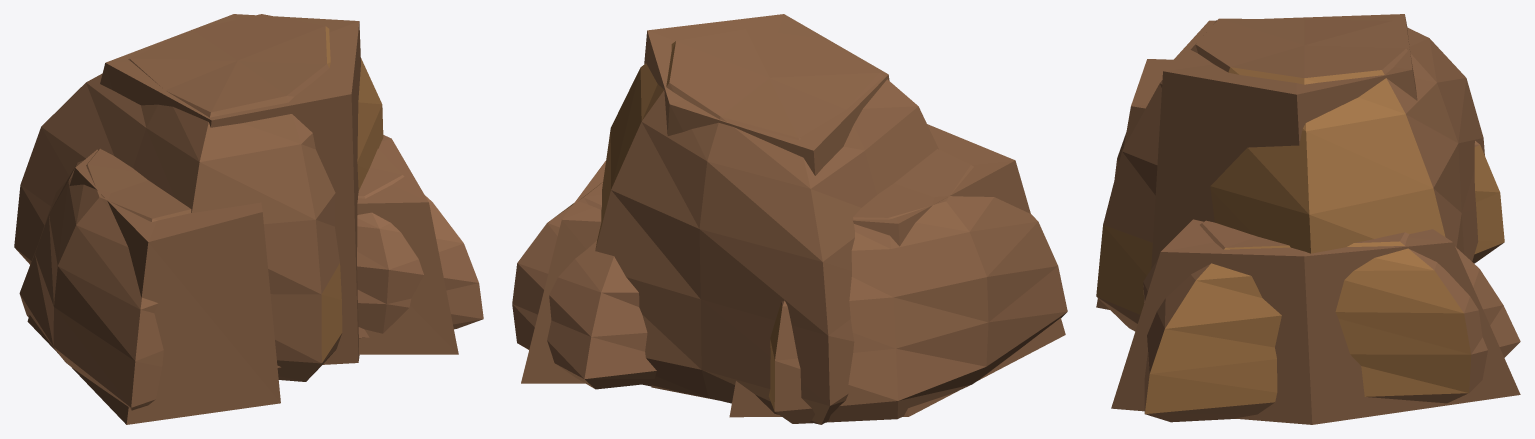
Rendered from rock_field_a.glb.
The picture shows the model from 3 angles, left to right: view 1: azimuth 30°, elevation 25°; view 2: azimuth 150°, elevation 25°; view 3: azimuth 270°, elevation 25°; orthographic projection. The views are drawn at different scales.
Parts seen in each view (by area): view 1: rock_field_a_LOD0_stone, rock_field_a_LOD1_stone; view 2: rock_field_a_LOD0_stone, rock_field_a_LOD1_stone; view 3: rock_field_a_LOD0_stone, rock_field_a_LOD1_stone.
Part boxes in pixels (x1=…): rock_field_a_LOD0_stone: x1=14, y1=14, x2=483, y2=410; rock_field_a_LOD1_stone: x1=27, y1=14, x2=458, y2=424; rock_field_a_LOD0_stone: x1=512, y1=29, x2=1067, y2=424; rock_field_a_LOD1_stone: x1=521, y1=14, x2=1065, y2=422; rock_field_a_LOD0_stone: x1=1096, y1=18, x2=1520, y2=422; rock_field_a_LOD1_stone: x1=1096, y1=14, x2=1520, y2=424.
Size of the model in its own units: 1.88 by 1.34 by 1.69.
